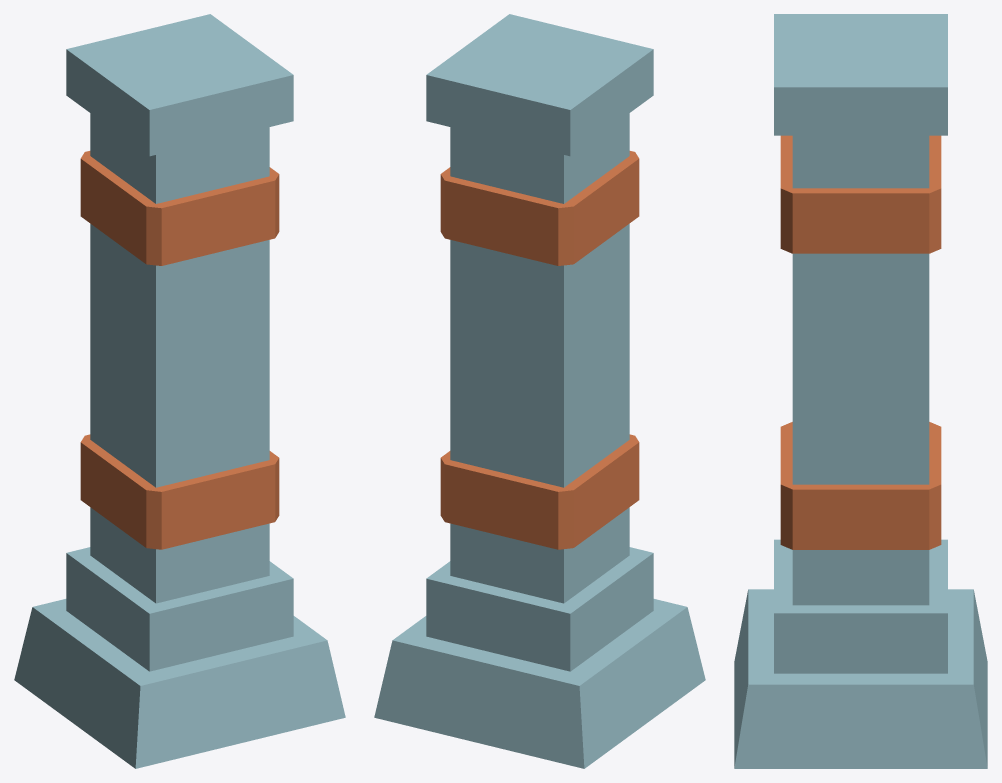
Rendered from columnLarge.dae.
3 renders of one model, left to right at view 1: azimuth 30°, elevation 25°; view 2: azimuth 150°, elevation 25°; view 3: azimuth 270°, elevation 25°, orthographic. The views are drawn at different scales.
Visible parts, largest first — view 1: columnLarge; view 2: columnLarge; view 3: columnLarge.
Part boxes in pixels (box(x1,y1,x2,y2)): columnLarge: box(14, 14, 345, 768); columnLarge: box(374, 14, 705, 768); columnLarge: box(734, 14, 987, 768).
Size of the model in its own units: 0.38 by 1.1 by 0.38.
